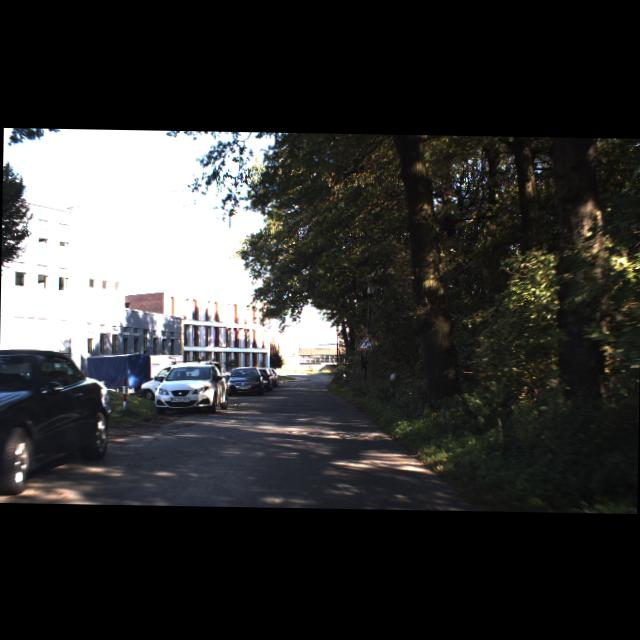danger: (356, 332, 374, 350)
